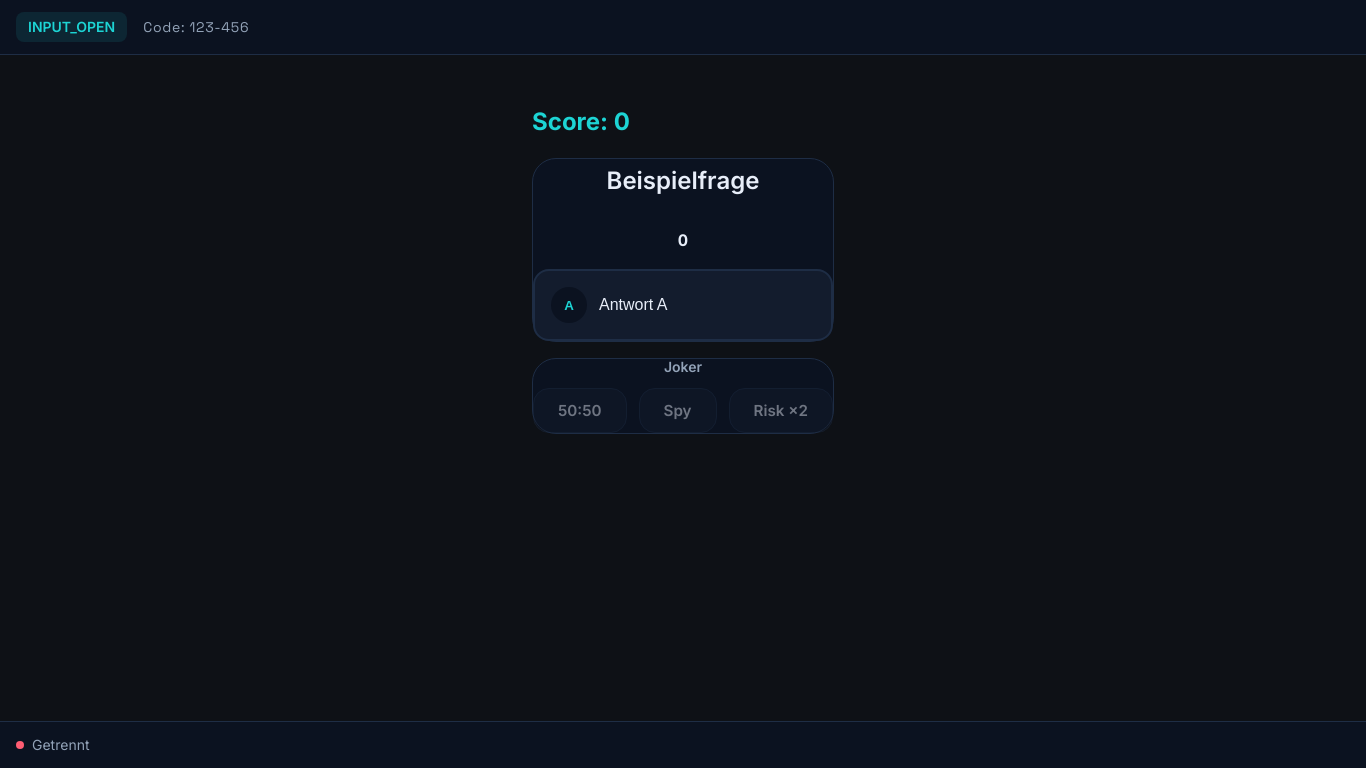
Test case: Player: a refusal by the action protection is explained and the answer stays selectable for a later try
Click the button "A Antwort A".
click(569, 305)  # box [533,269,833,341]
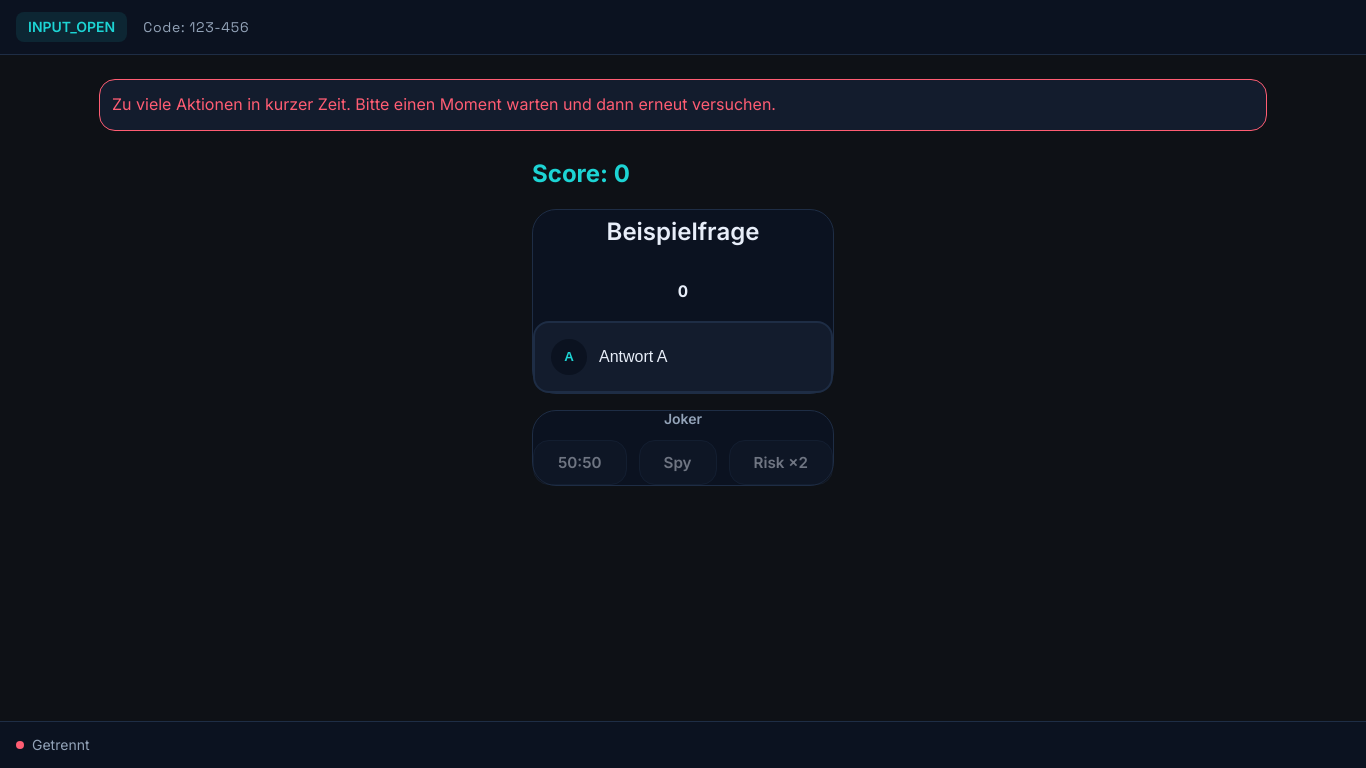
Check: the button "A Antwort A" is enabled, box [533,321,833,393]
Check: the text "Zu viele Aktionen in kurzer Zeit" is shown, box [112,94,776,114]
